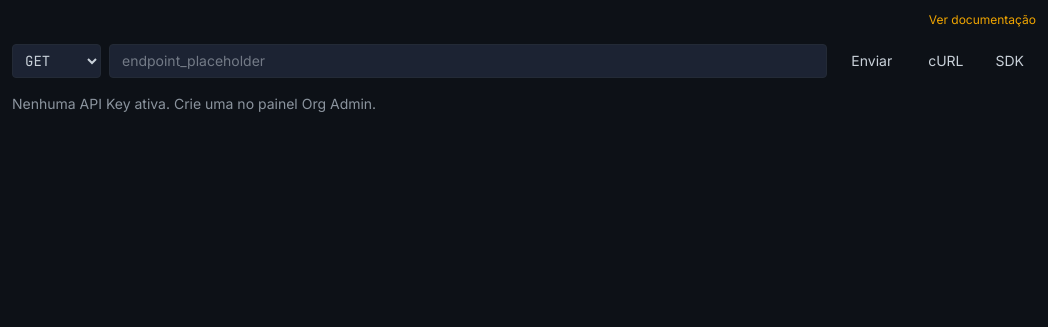
PlaygroundPanel — editor de body JSON › exibe erro quando JSON é inválido
Select "POST" in the dropdown with test id "method-select" at (56, 61), box left=12, top=44, right=101, bottom=78
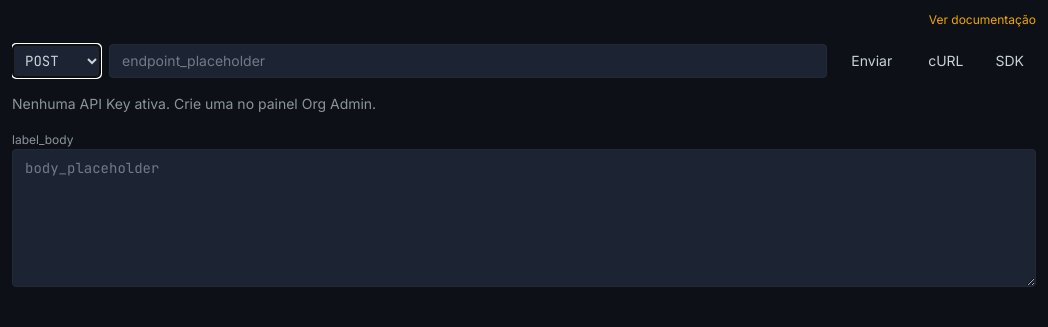
Type "not-json-invalid" into the text box with test id "body-editor" at (524, 218), box left=12, top=149, right=1036, bottom=287
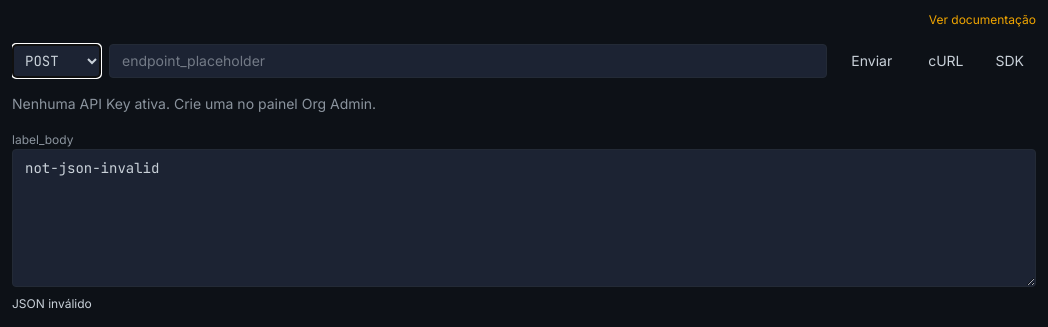
Result: the text "JSON inválido" is shown at left=12, top=296, right=92, bottom=311
